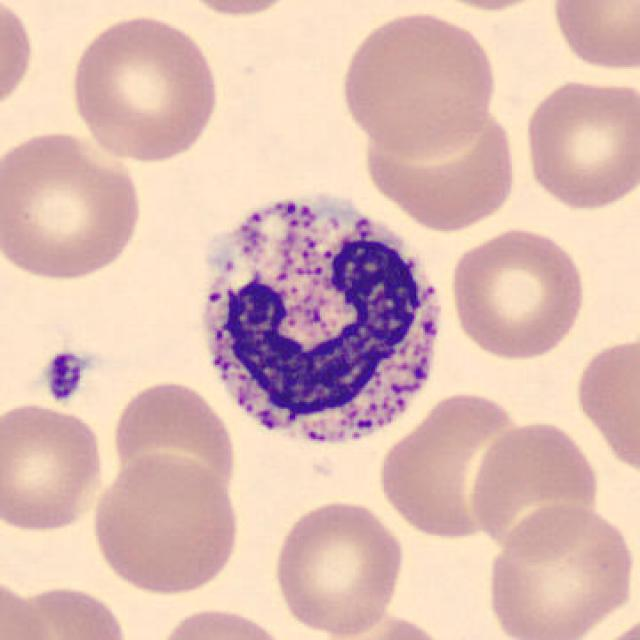Neutrophil: (185, 176, 460, 471)
Platelets: (39, 348, 91, 406)
RBC: (375, 386, 533, 543), (64, 11, 224, 166), (336, 7, 501, 157), (0, 125, 148, 286), (86, 450, 246, 598), (359, 100, 521, 234), (481, 500, 636, 640), (446, 224, 590, 363), (269, 494, 407, 638), (466, 416, 602, 557), (107, 376, 240, 510), (519, 74, 638, 213), (0, 398, 107, 536), (570, 329, 640, 481), (5, 580, 132, 640), (546, 0, 638, 74), (151, 604, 293, 640), (0, 0, 37, 123), (313, 608, 451, 640), (0, 571, 55, 640), (167, 0, 311, 19), (418, 0, 562, 14), (588, 610, 640, 640)
